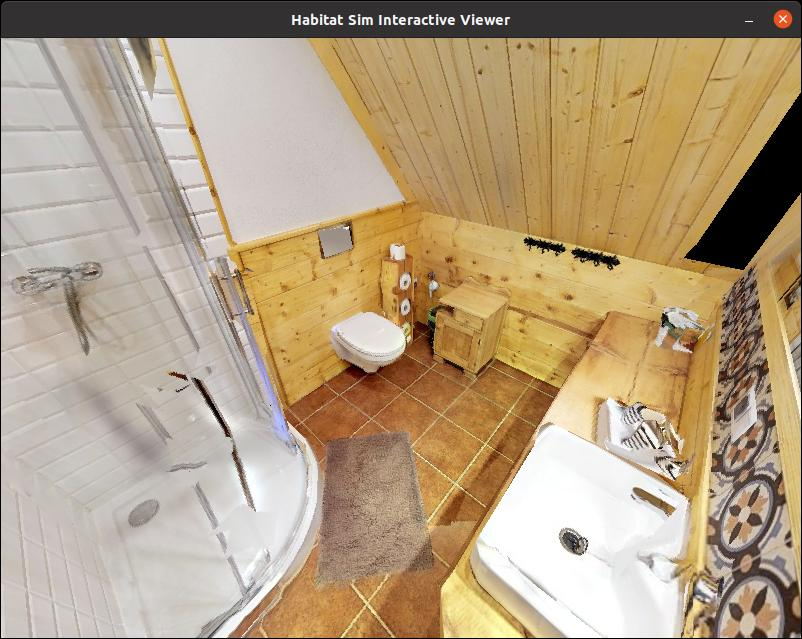shower: (0, 40, 337, 639)
sink: (461, 395, 716, 639)
toilet: (324, 303, 421, 389)
